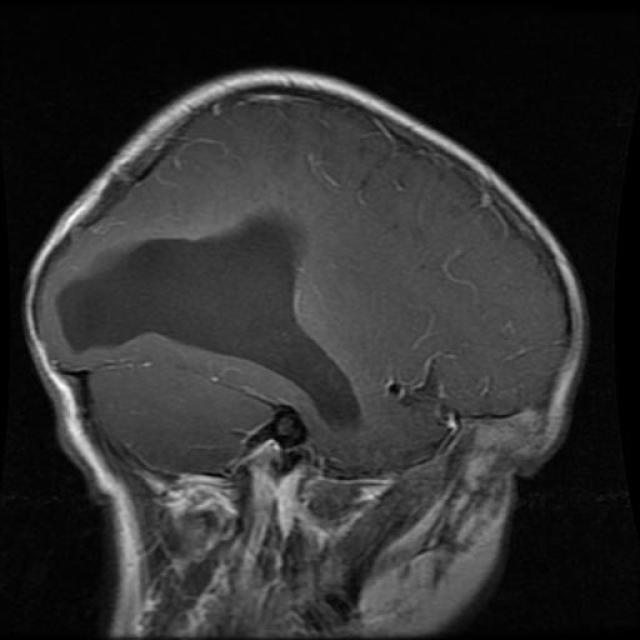glioma: (61, 218, 378, 428)
